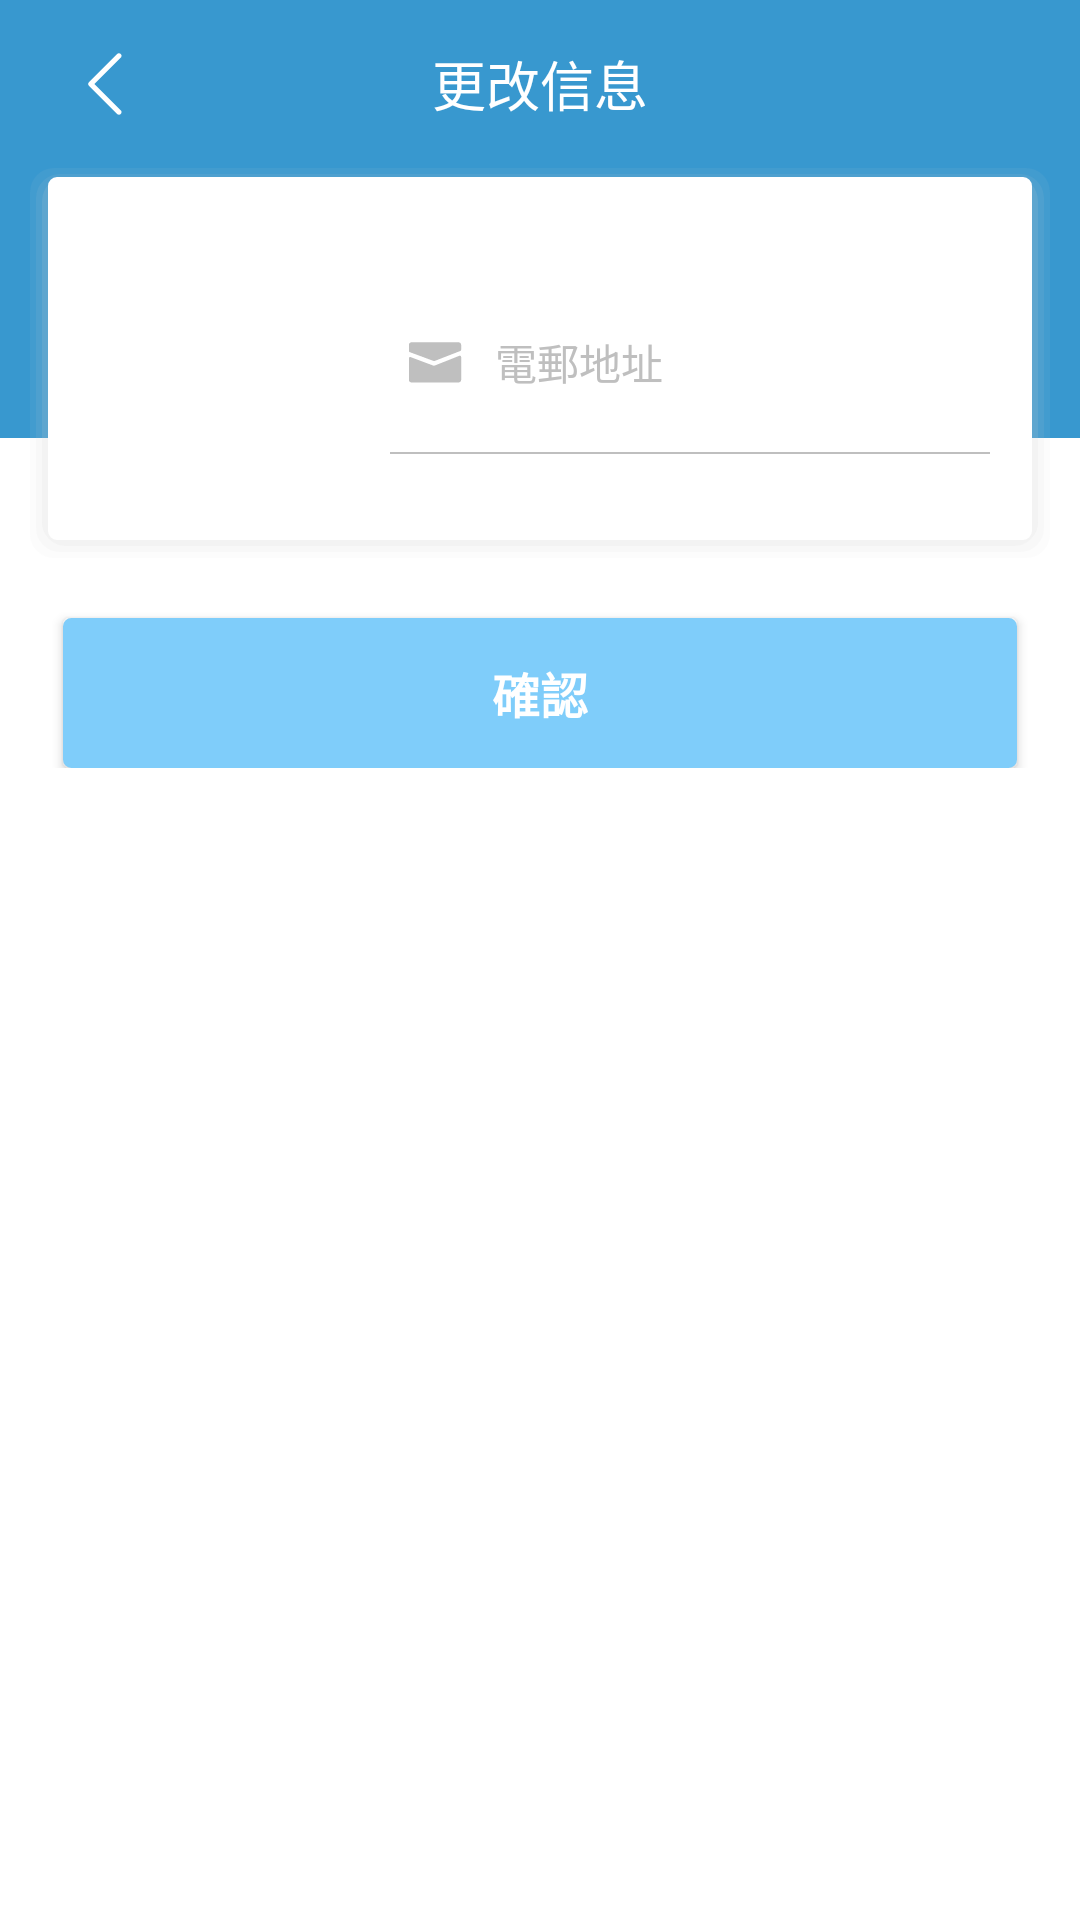

Icons on this 1080px x 1920px Android screen, each with its box as bbox(x1, y1, x2, y2):
back: bbox(88, 53, 122, 115)
email bfgray: bbox(409, 342, 461, 383)
